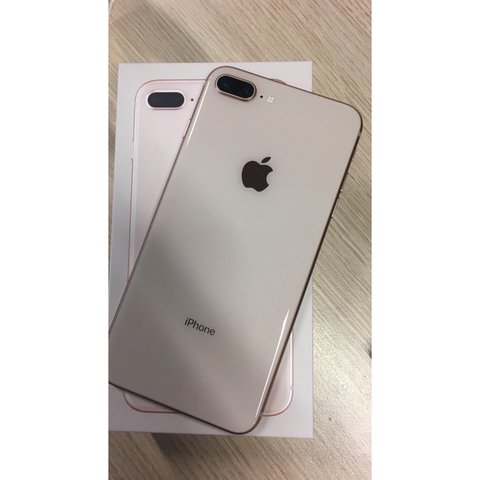apple: (238, 150, 285, 196)
